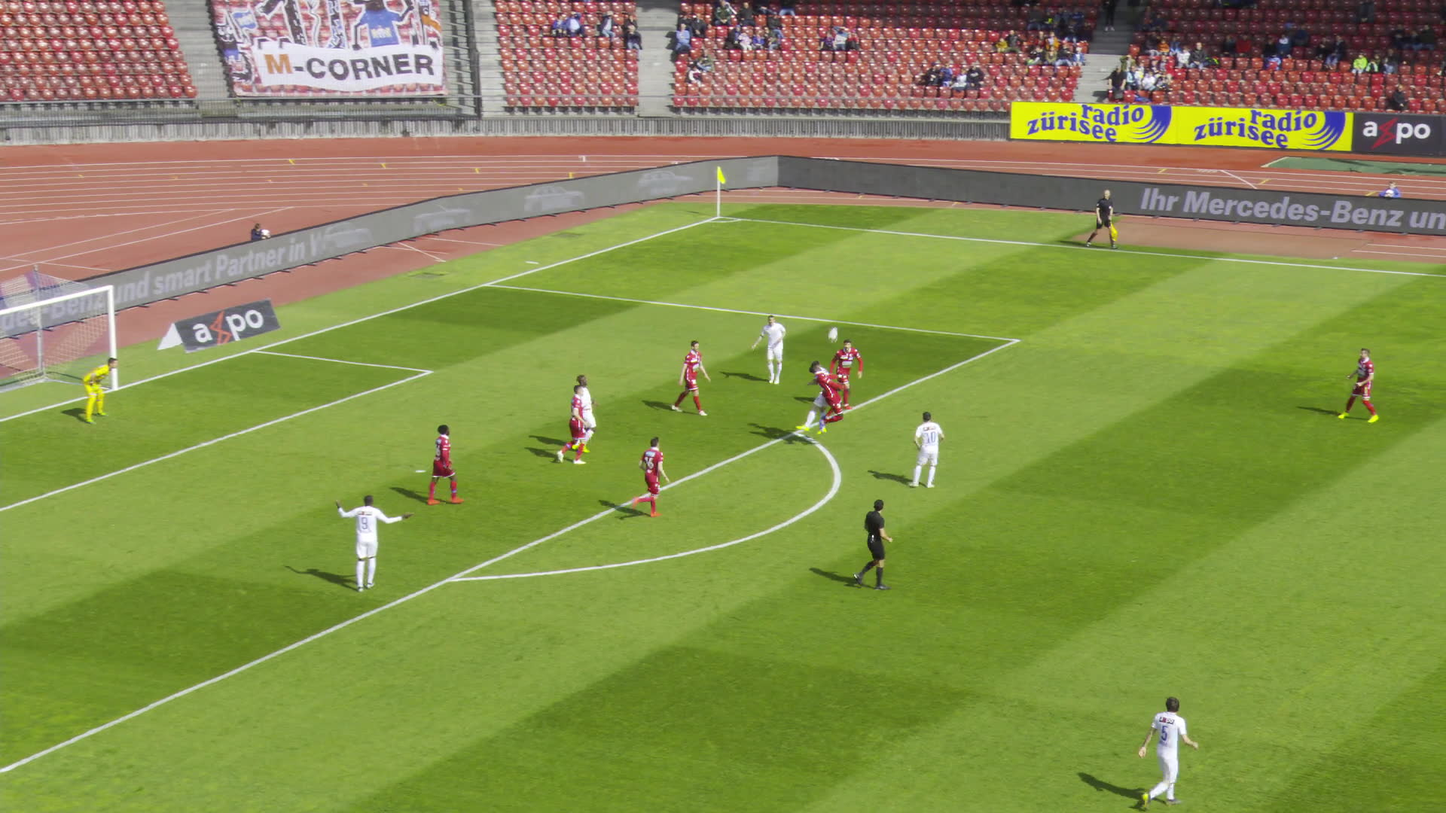ball: (828, 318, 842, 331)
player: (334, 495, 413, 592), (1138, 696, 1197, 810), (1336, 346, 1378, 422), (671, 339, 709, 417), (632, 437, 667, 519), (427, 424, 462, 503), (807, 363, 845, 434), (556, 385, 590, 464), (827, 340, 865, 410), (801, 362, 835, 440), (752, 317, 789, 382), (911, 411, 942, 486), (83, 356, 117, 423), (572, 376, 594, 452)
referee: (853, 501, 898, 591), (1088, 189, 1116, 248)
